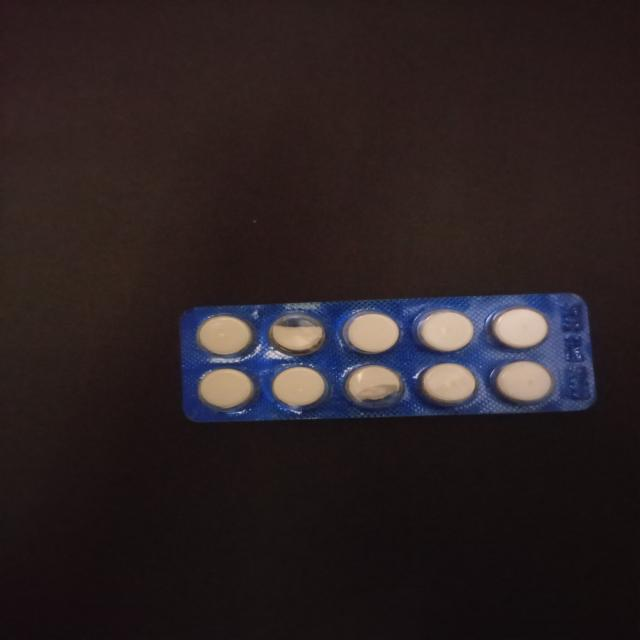defect: (341, 362, 407, 413), (266, 310, 330, 358)
